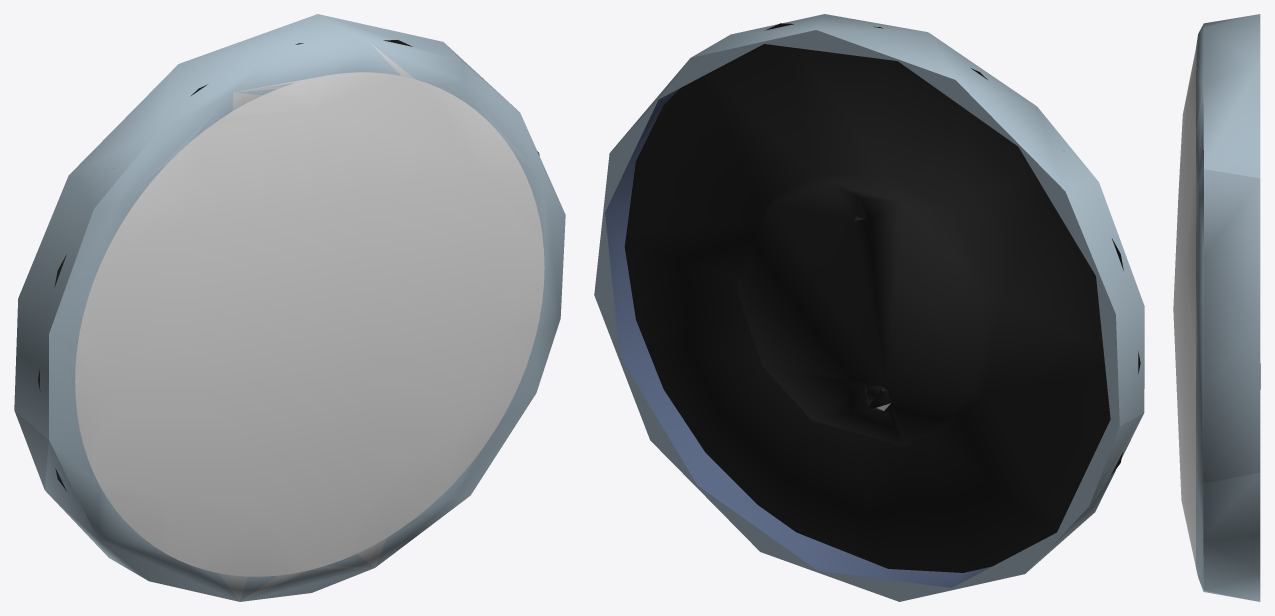
Rendered from wall-clock.glb.
3 views of the same model, side by side, from view 1: azimuth 30°, elevation 25°; view 2: azimuth 150°, elevation 25°; view 3: azimuth 270°, elevation 25° (orthographic). The views are drawn at different scales.
Visible parts, largest first — view 1: wall-clock; view 2: wall-clock; view 3: wall-clock.
Part boxes in pixels (x1,y1,x2,y2): wall-clock: (14,14,565,601); wall-clock: (594,14,1144,601); wall-clock: (1173,14,1260,601).
Bounding box in the file's own units: 0.3193 × 0.3203 × 0.048.
